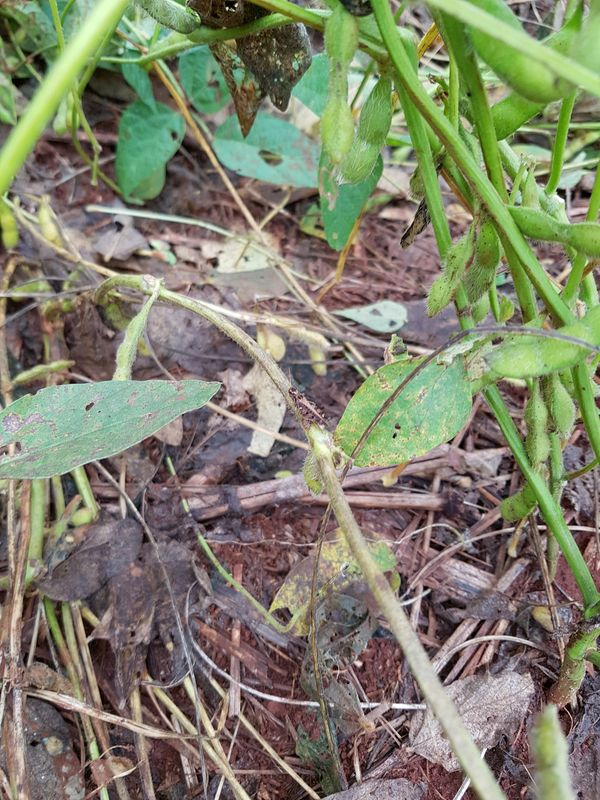Rhammatocerus_schistocercoides: (278, 380, 340, 439)
